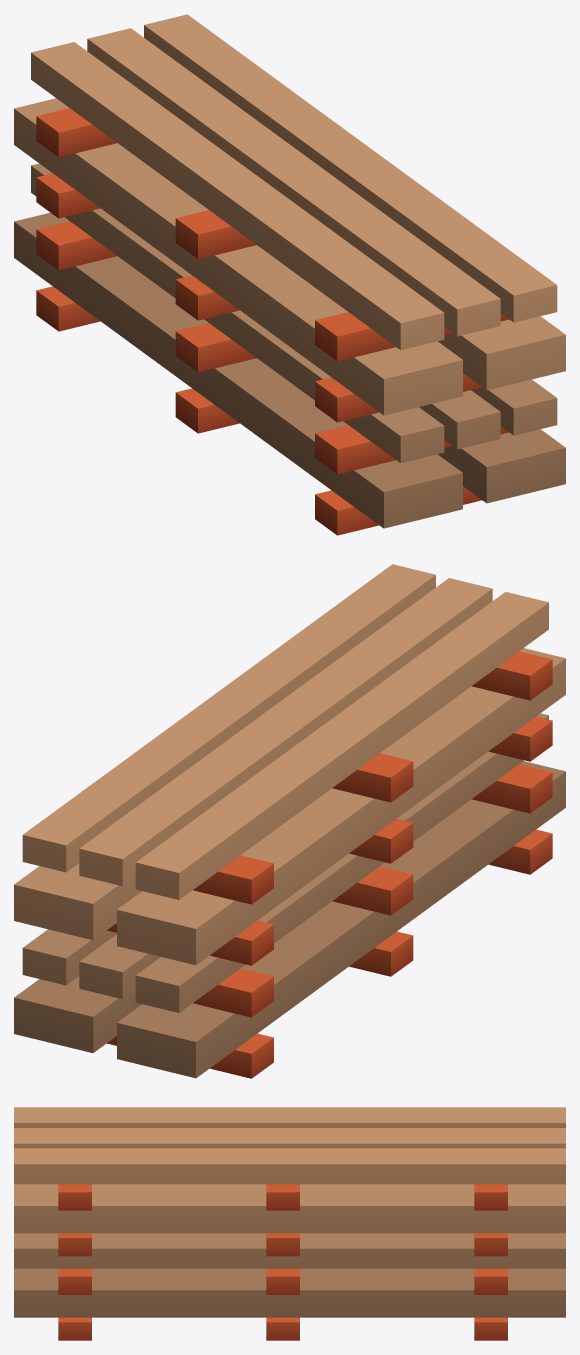
File: treated wood small.fbx
3 renders of one model, top to bottom at view 1: azimuth 30°, elevation 25°; view 2: azimuth 150°, elevation 25°; view 3: azimuth 270°, elevation 25°, orthographic. The views are drawn at different scales.
Visible parts, largest first — view 1: treated_wood_small; view 2: treated_wood_small; view 3: treated_wood_small.
Part boxes in pixels (x1=…): treated_wood_small: x1=14, y1=14, x2=565, y2=535; treated_wood_small: x1=14, y1=564, x2=565, y2=1078; treated_wood_small: x1=14, y1=1107, x2=565, y2=1340.
Size of the model in its own units: 140 by 143 by 423.
Materials: 1 (1 with a texture image).
